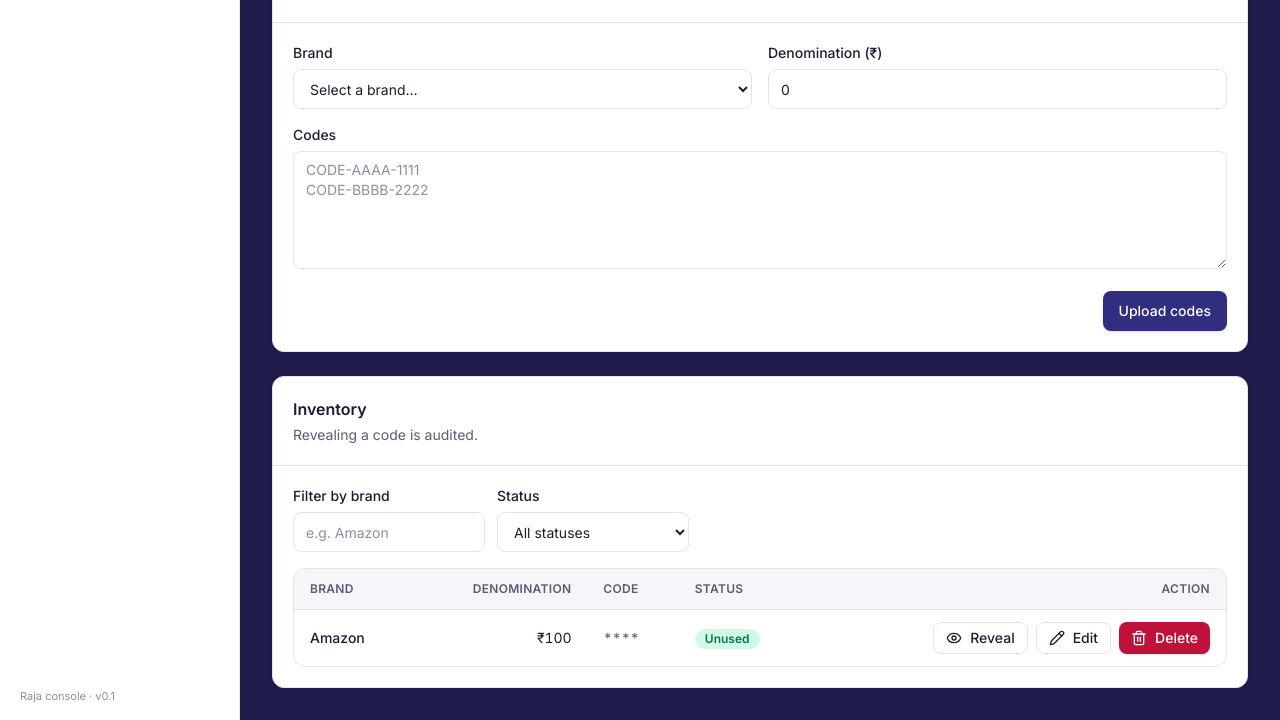
Scenario: Inventory screen › reveals a code behind an audited confirm
(page scrolled)
Click the button "Reveal": (980, 638) [933,622,1028,654]
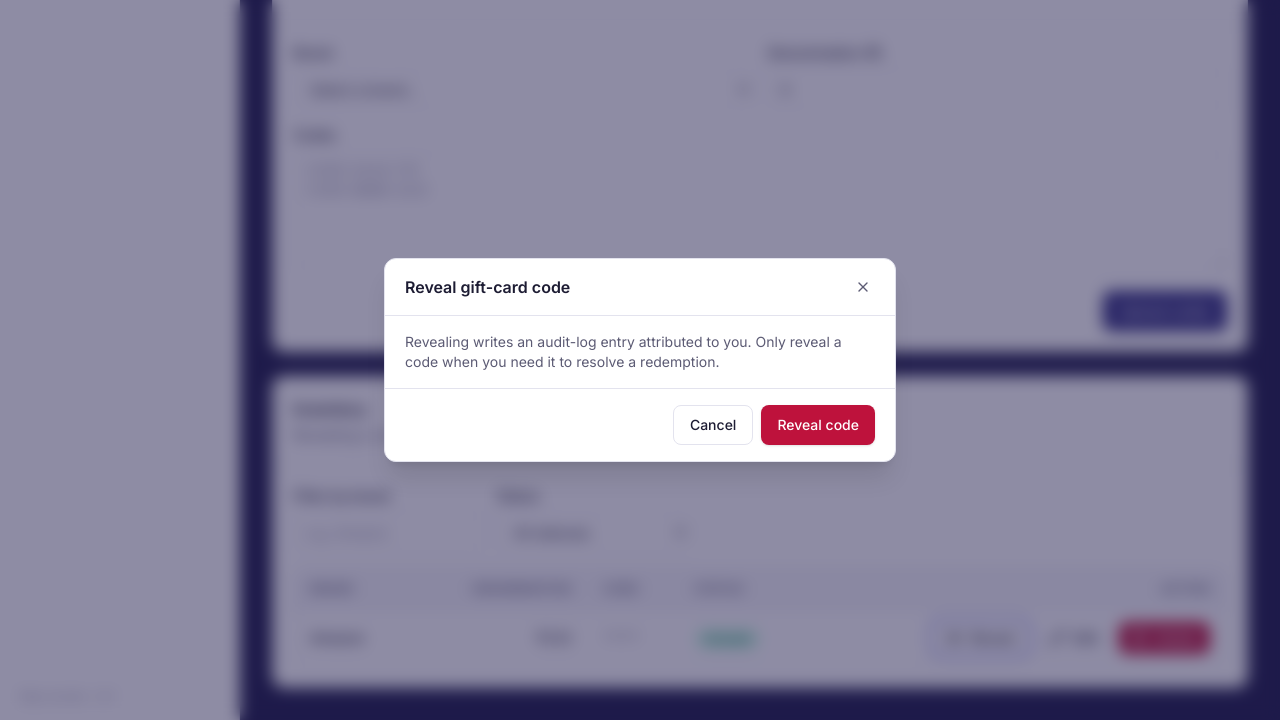
Click the button "Reveal code": (818, 425) [761,405,875,445]
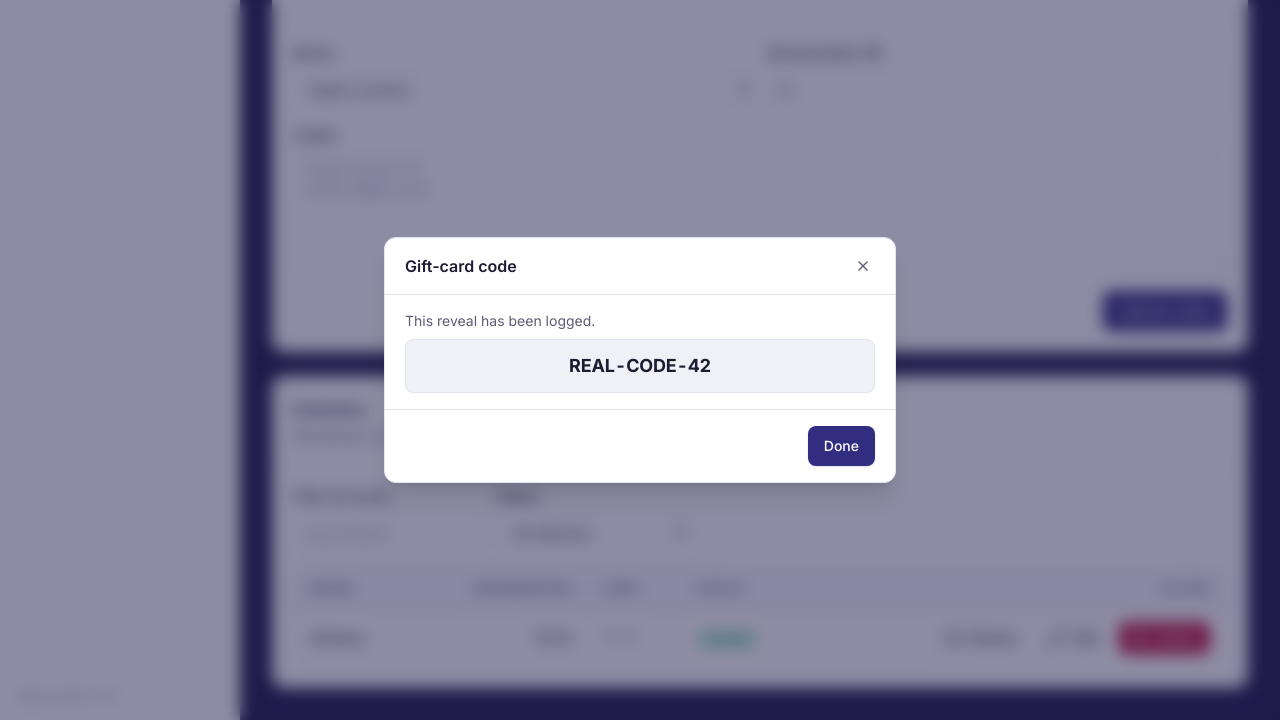
Check: the text "REAL-CODE-42" is shown, box [405,339,875,393]
